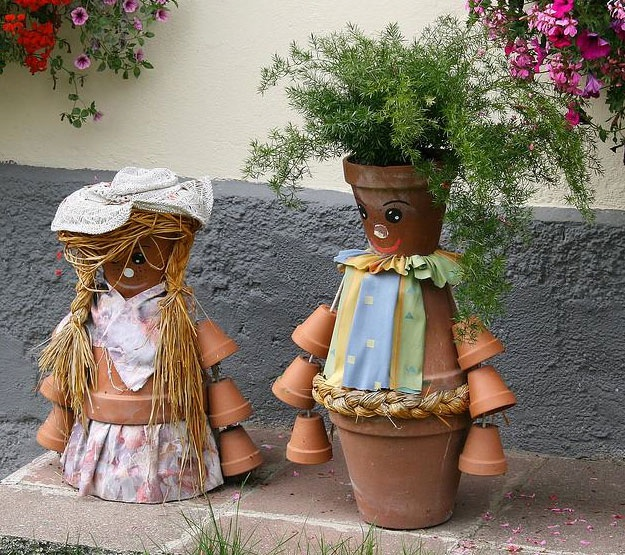flowerpot: (312, 376, 471, 531), (343, 144, 458, 256)
